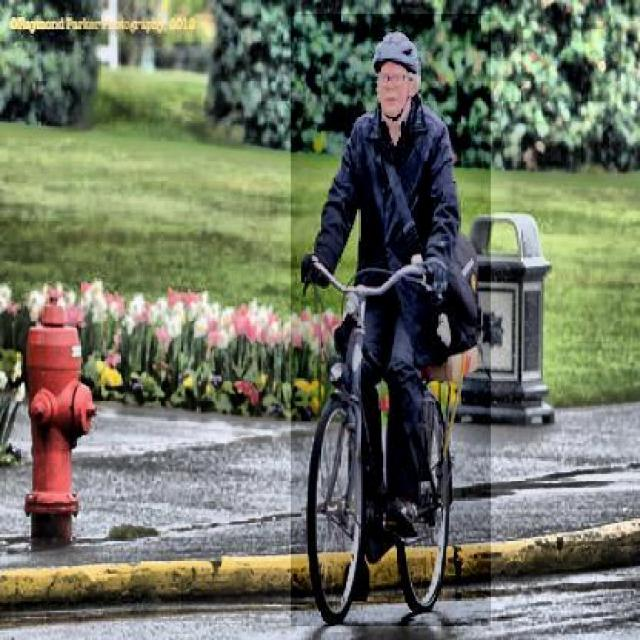bikerider: (291, 14, 491, 626)
